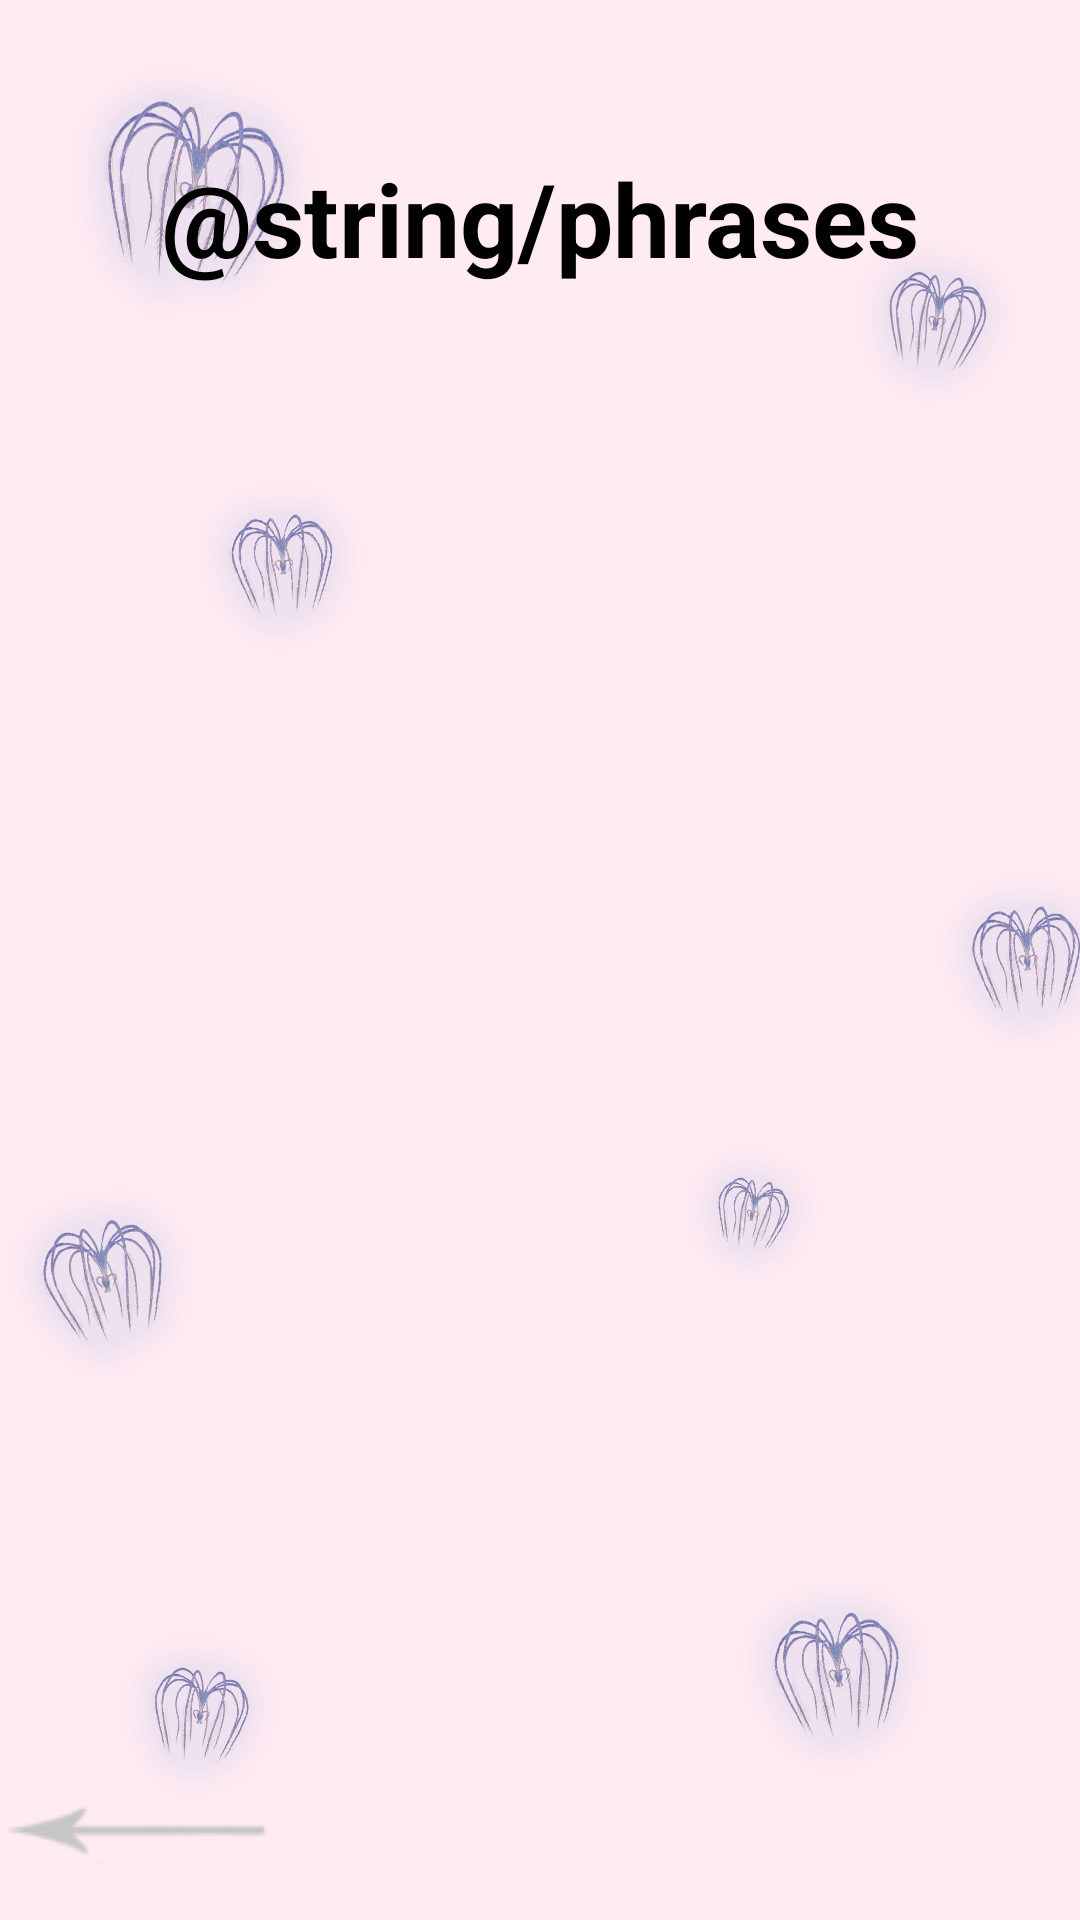

Where icons sit on this 1080px x 1920px app screen, as bbox=[x1, y1, x2, y2]:
back: bbox=[13, 1808, 265, 1853]
